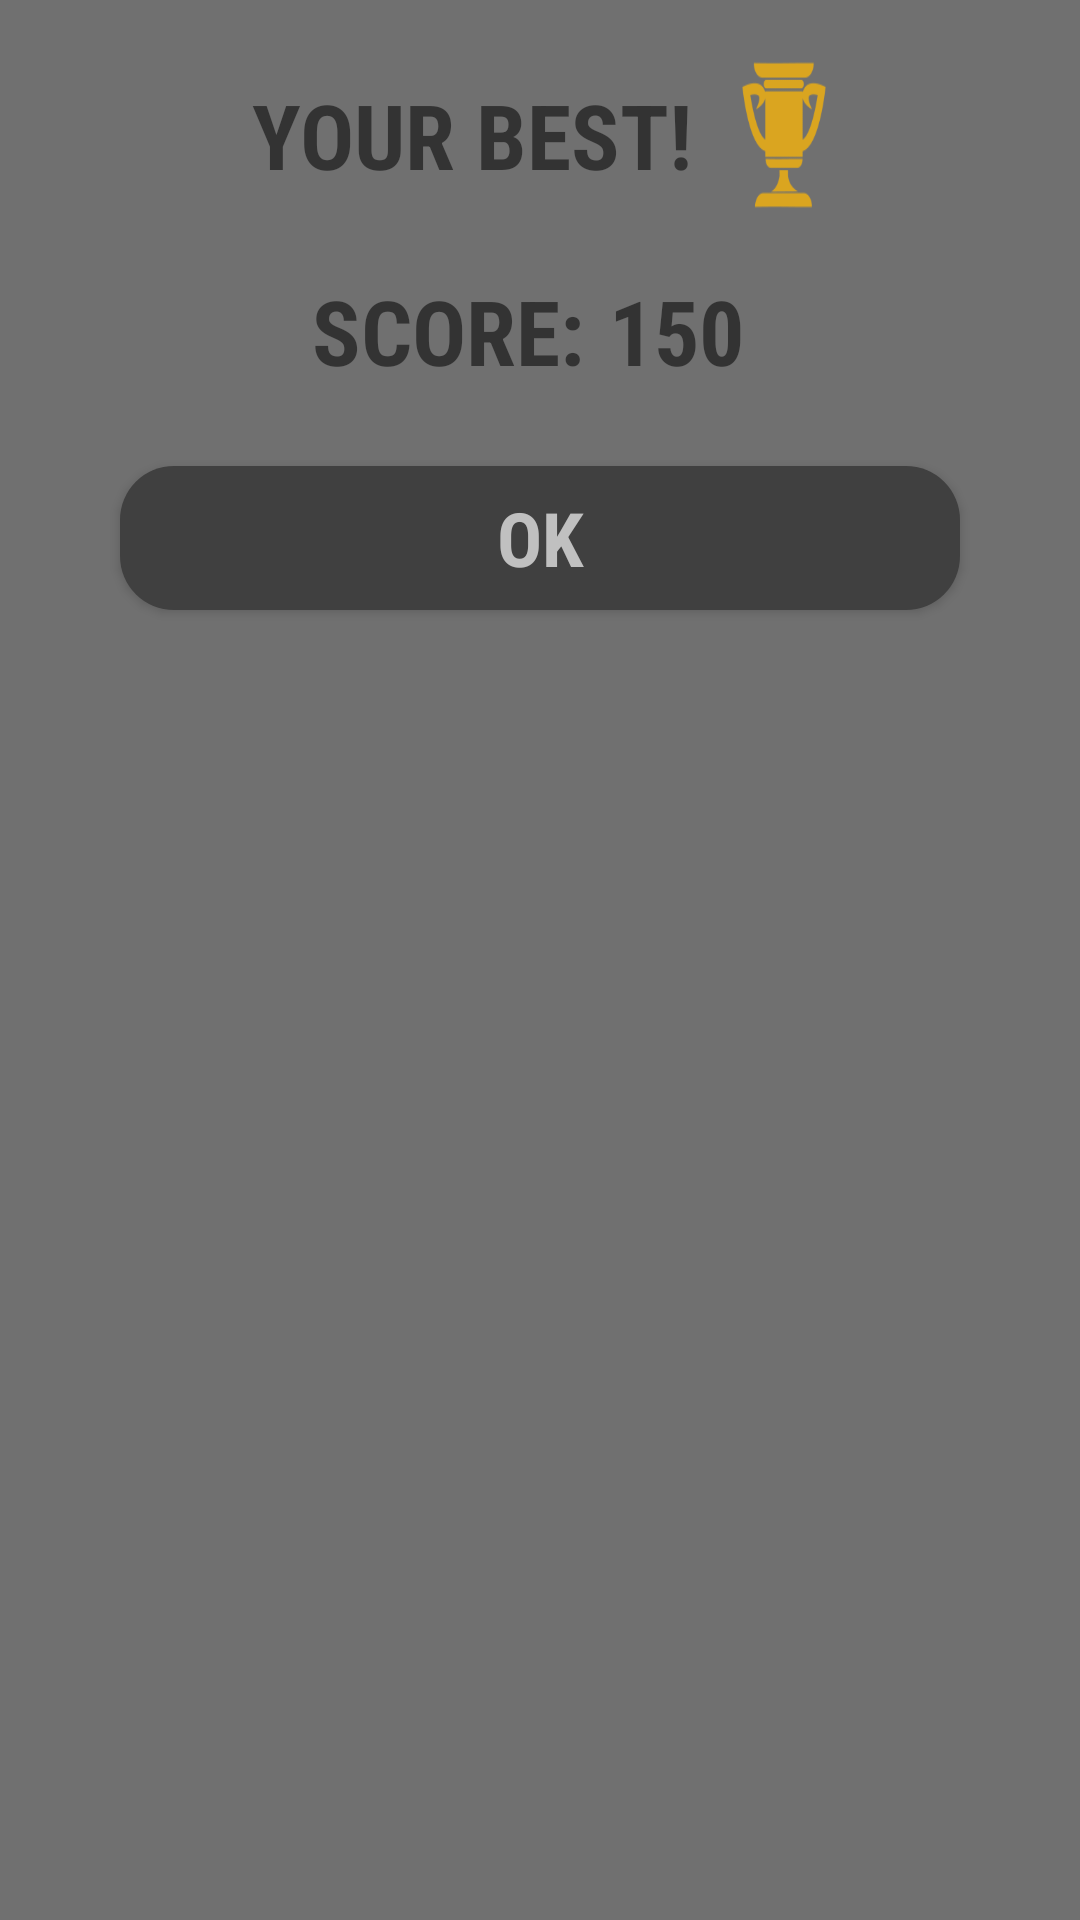

Icons on this 1080x1920 Android screen, each with its box as (x1, y1, x2, y2):
trophy: (742, 62, 826, 208)
